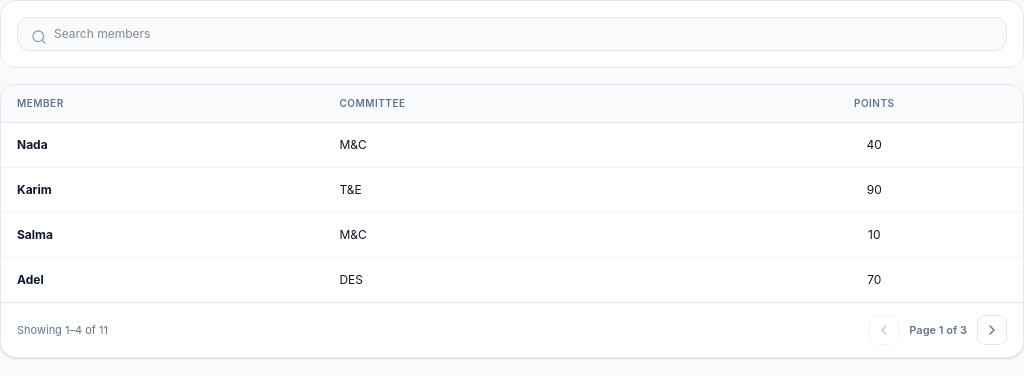
it: the table on a desktop viewport › walks the pages and stops at the end
Click the button named "Next page".
click(992, 330)  # box [977,315,1007,345]
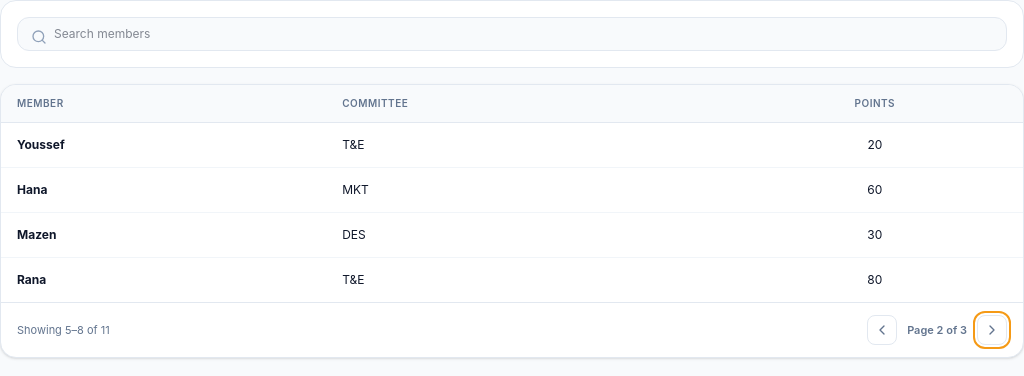
Now the text "Showing 5–8 of 11" is shown, box [17,322,110,339]
Click the button named "Next page".
click(992, 330)  # box [977,315,1007,345]
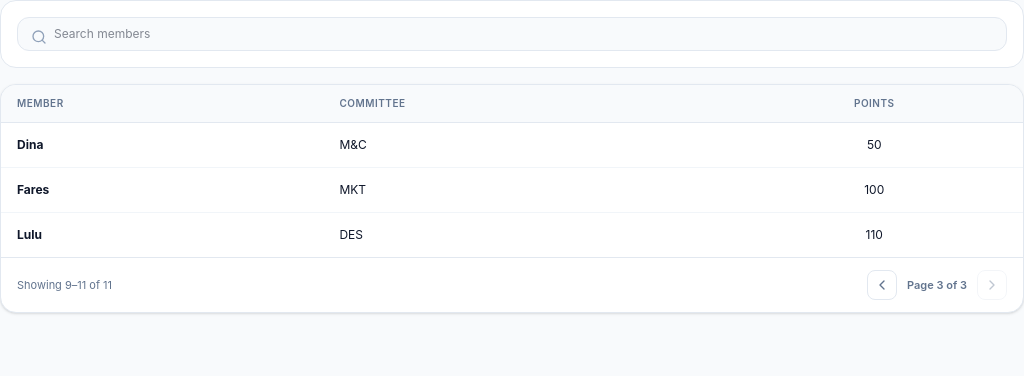
Expected: the button named "Next page" is disabled, [977,270,1007,300]
Now the text "Showing 9–11 of 11" is shown, box [17,277,112,294]
